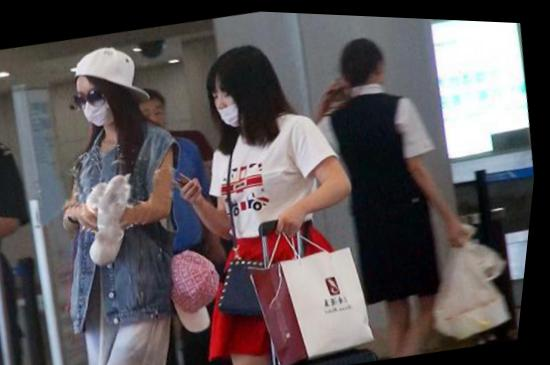OK: (75, 81, 121, 128)
WRONG: (205, 73, 263, 128)
